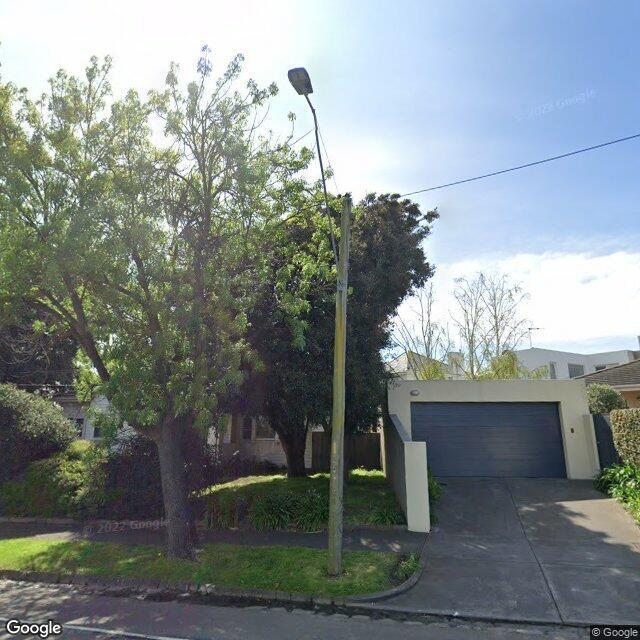streetlight: (287, 67, 344, 290)
timber-pole: (326, 198, 352, 576)
